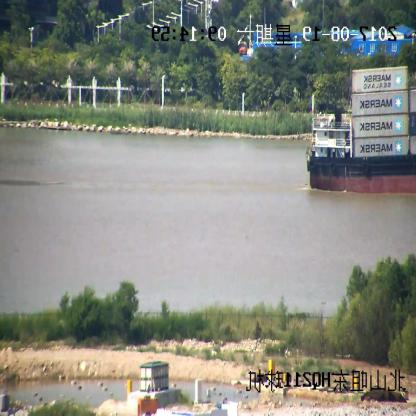Container Ship: (307, 66, 415, 196)
